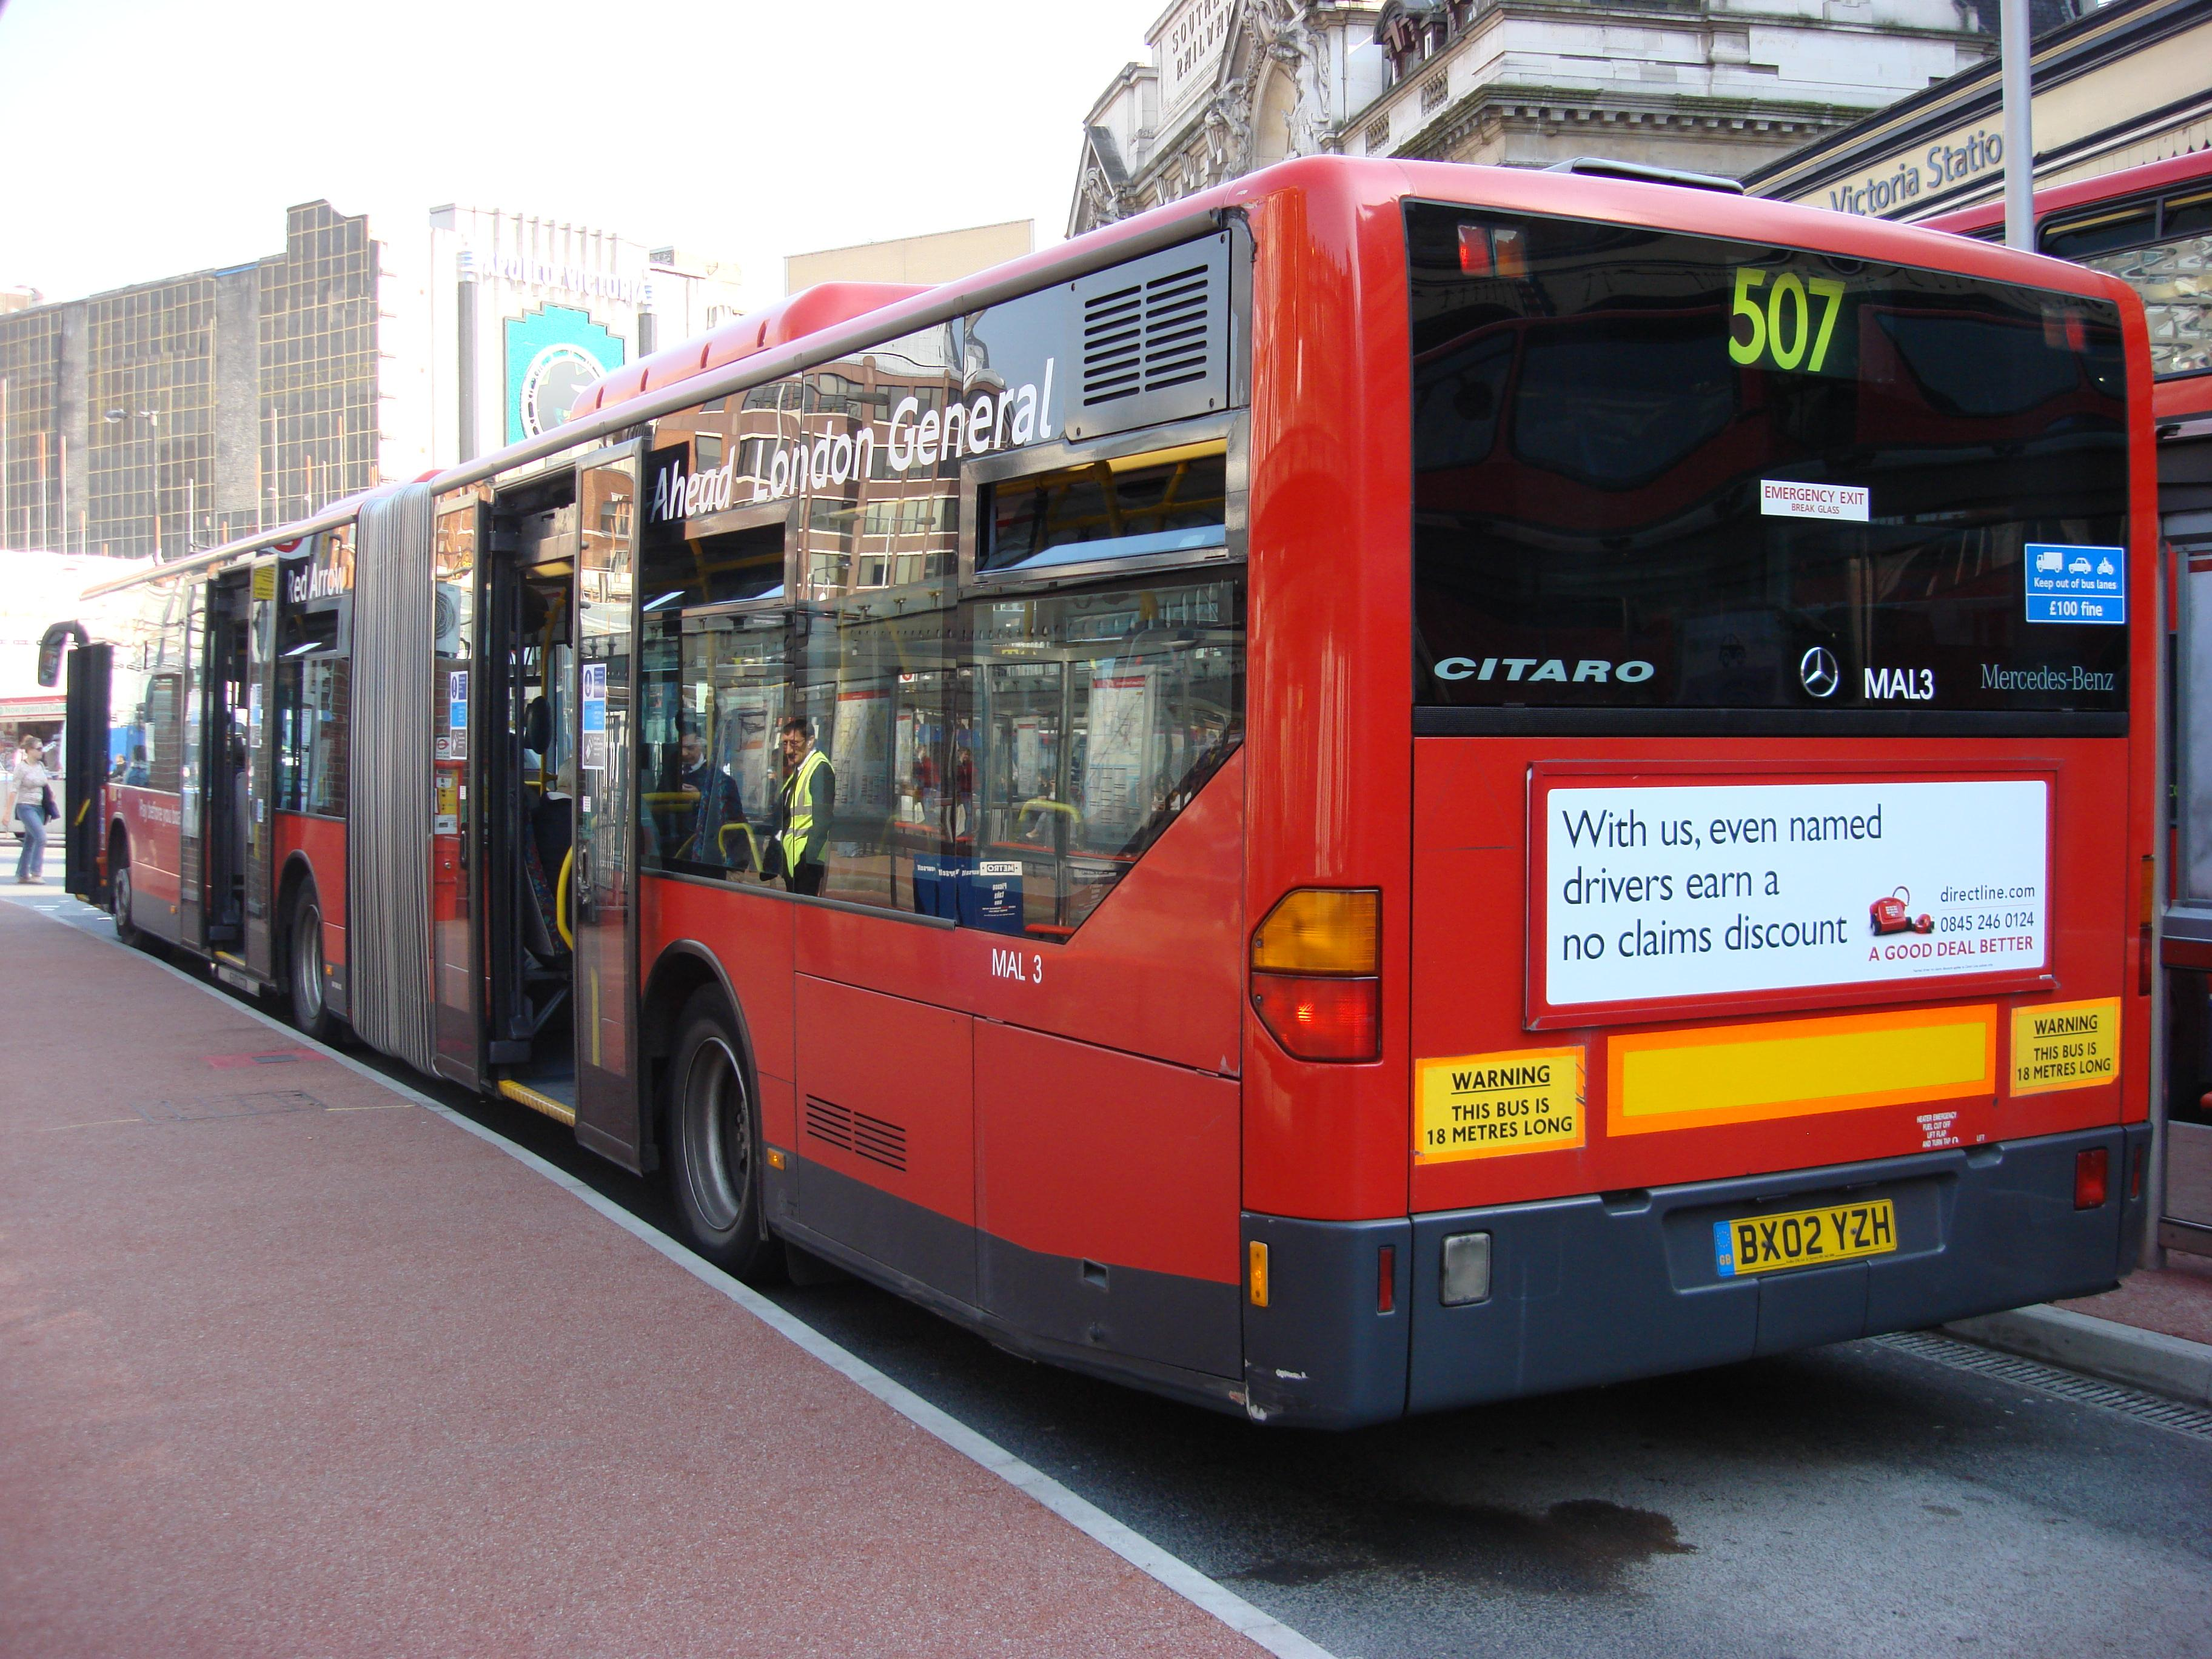bus: (26, 152, 2168, 1483)
